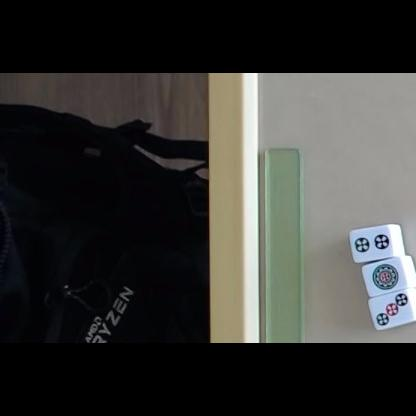1p: (372, 263, 400, 291)
2p: (354, 234, 390, 253)
3p: (376, 293, 409, 326)
